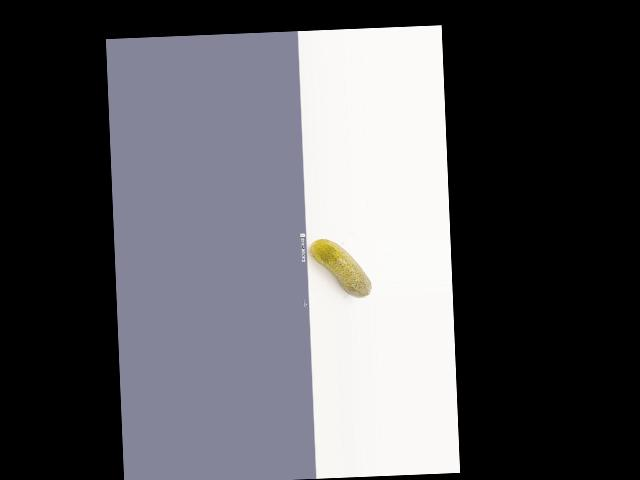cucumber: (309, 237, 371, 300)
